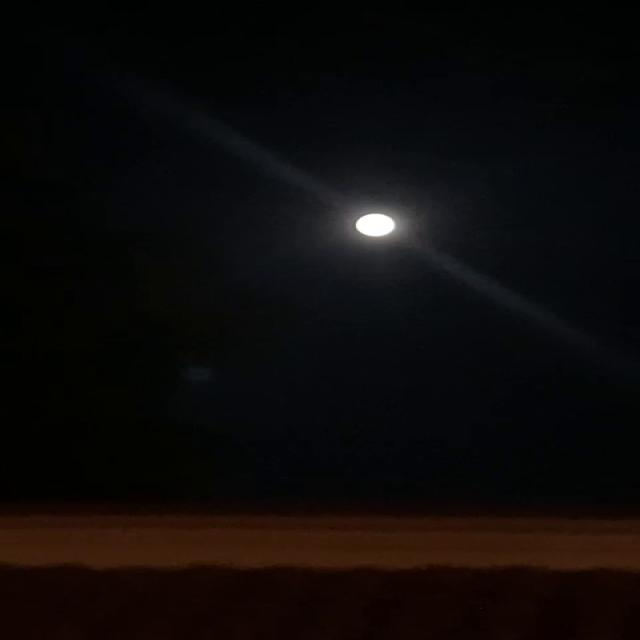moon: (343, 203, 414, 242)
